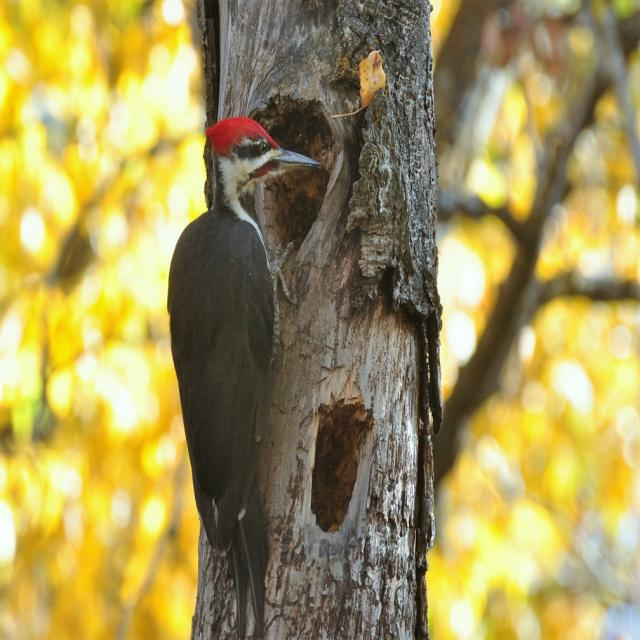Woodpecker: (162, 110, 322, 601)
